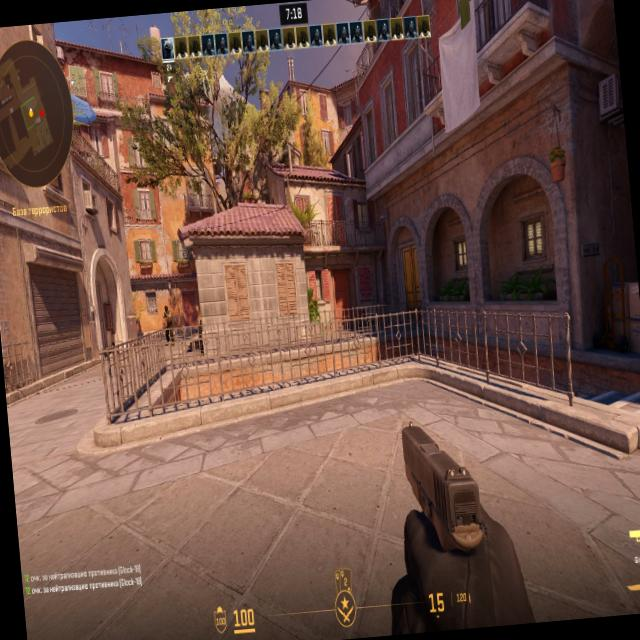T: (163, 306, 173, 342)
T_heat: (165, 306, 168, 316)
